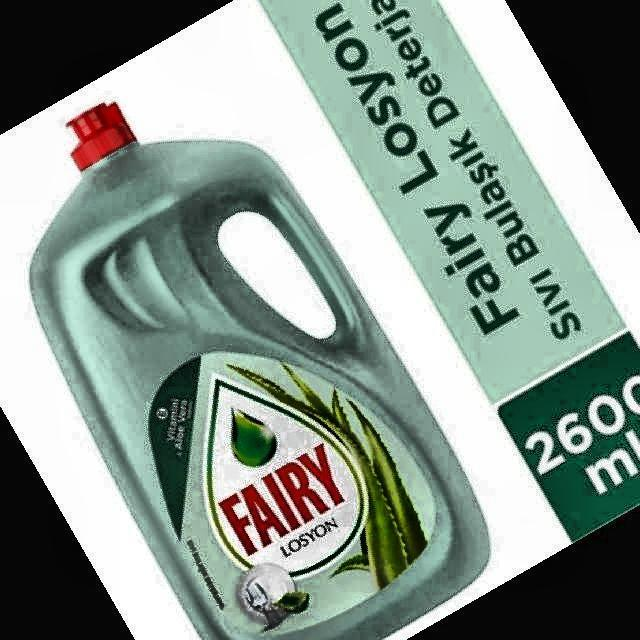plastic: (30, 104, 489, 640)
